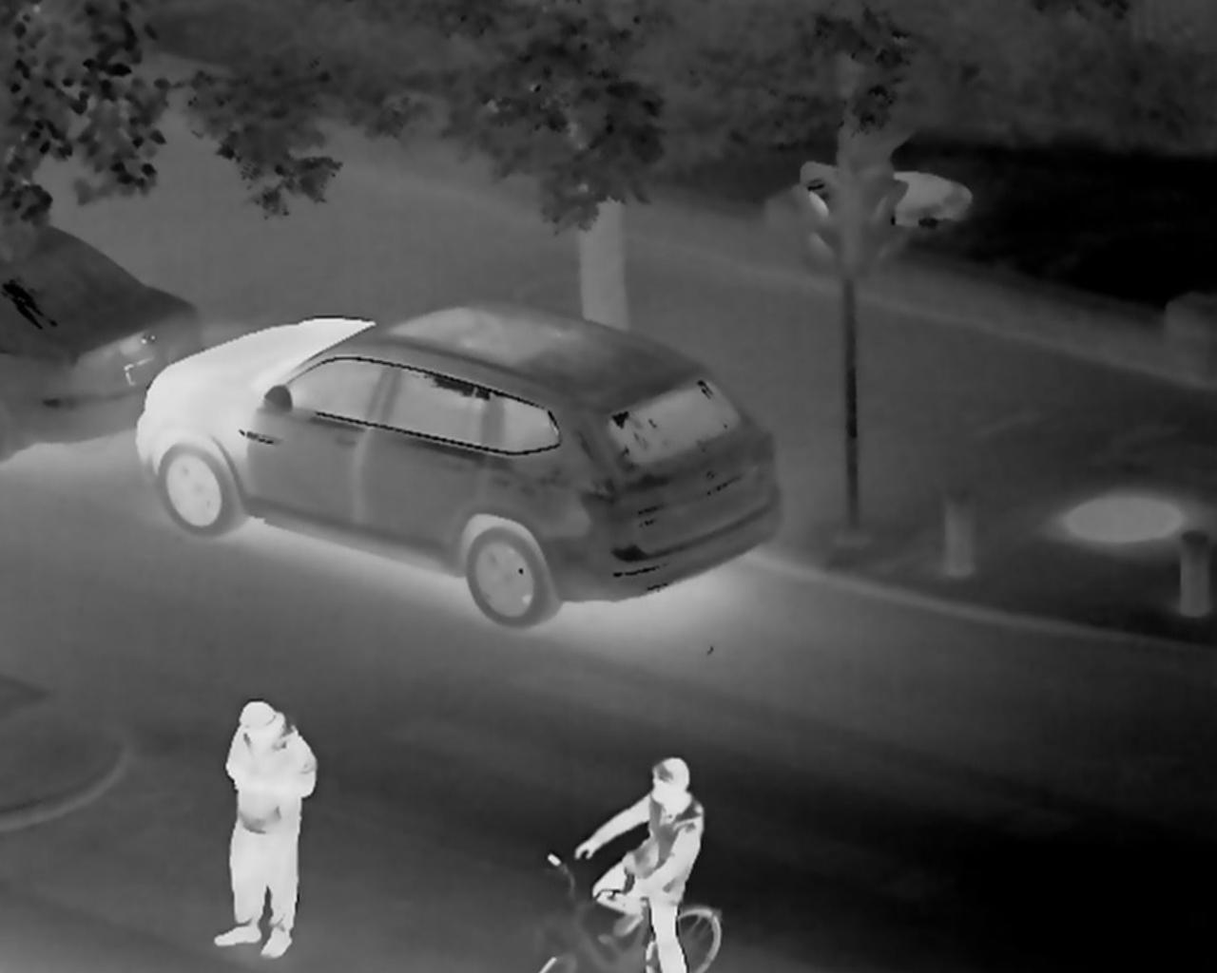person: (568, 753, 706, 973), (212, 688, 318, 958)
